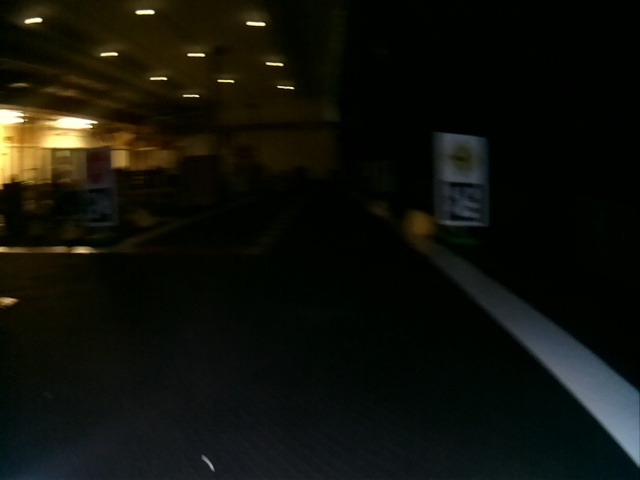Duckie: (407, 211, 436, 239)
Intersection sign: (443, 139, 485, 175)
QR code: (443, 180, 487, 222), (88, 188, 116, 223)
Stop sign: (86, 150, 110, 184)
